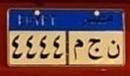4: (10, 34, 23, 61), (25, 33, 38, 59), (40, 34, 51, 60), (53, 34, 63, 61)
jeem: (87, 37, 104, 60)
meem: (71, 36, 86, 62)
noon: (106, 37, 121, 61)
